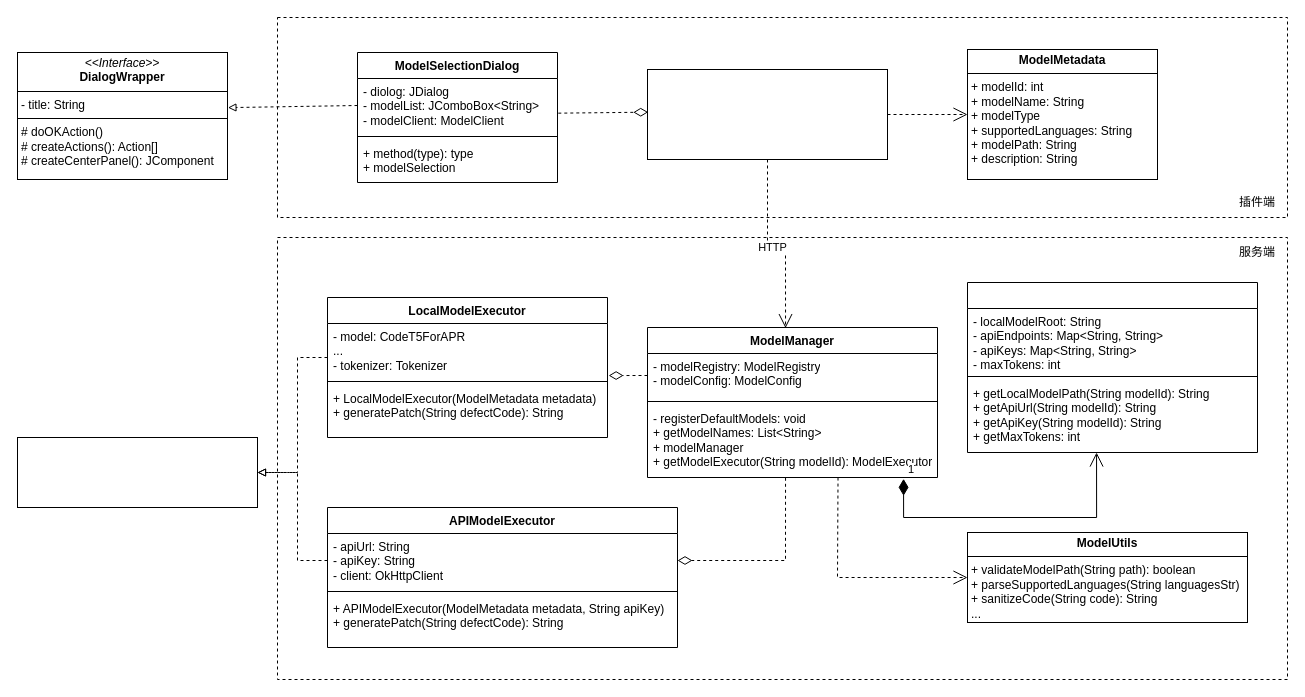
The diagram is 1305 pixels wide and 697 high, and some of its shapes have lost their labels. Here are the shapes that lost their labels. From the top down, the box of each, then its label:
(646, 68, 888, 160): ModelClient ... + getModelList() + invokeModel(String modelId, String code)
(966, 282, 1258, 452): ModelConfig
(16, 436, 258, 508): <<Interface>> ModelExecutor + generatePatch(String defectCode): String
